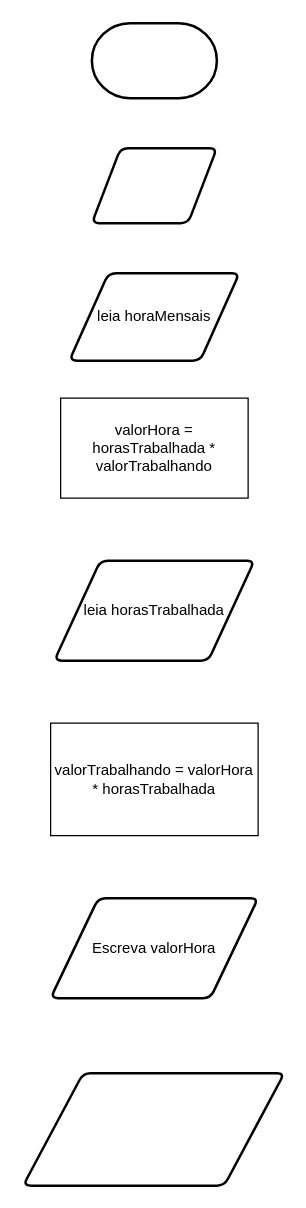
This 306x1208 diagram has some shape labels left out. The centre of each missing label's shape, as x and y in pixels:
Escreva valorTrabalhando: point 153,1128
inicio: point 154,60
leia salario: point 154,185
